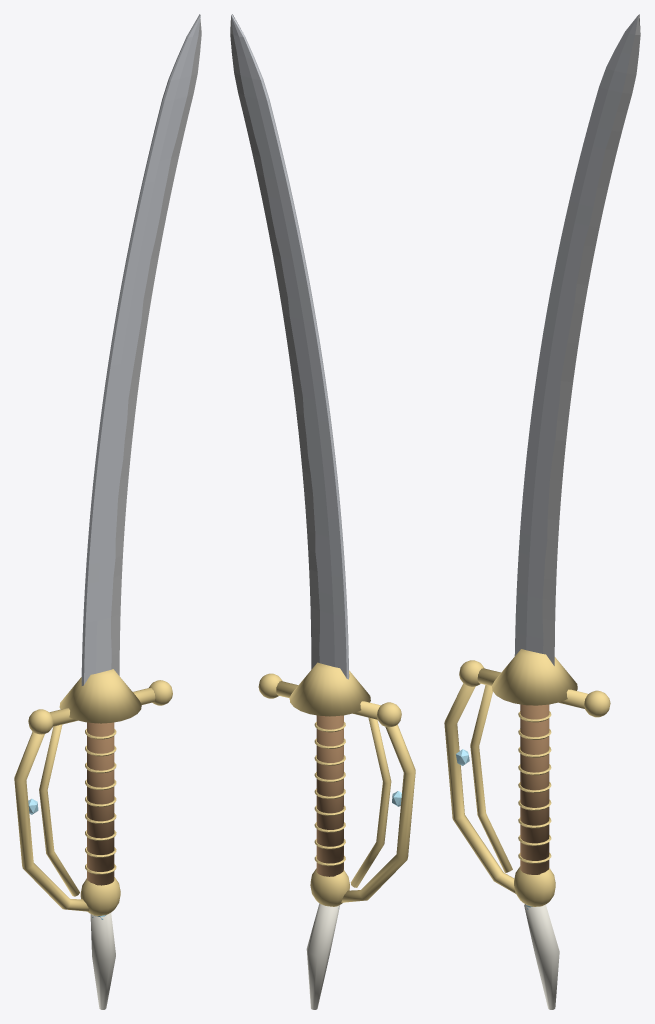
The model's file is blackwood_saebel.glb.
3 views of the same model, side by side, from view 1: azimuth 30°, elevation 25°; view 2: azimuth 150°, elevation 25°; view 3: azimuth 330°, elevation 25° (orthographic). The views are drawn at different scales.
Visible parts, largest first — view 1: G_blackwood_saebel; view 2: G_blackwood_saebel; view 3: G_blackwood_saebel.
Boxes of the visible parts, x1=… form: G_blackwood_saebel: x1=14, y1=14, x2=201, y2=1009; G_blackwood_saebel: x1=230, y1=14, x2=415, y2=1009; G_blackwood_saebel: x1=444, y1=14, x2=640, y2=1009.
Bounding box in the file's own units: 0.2443 × 1.22 × 0.0934.
